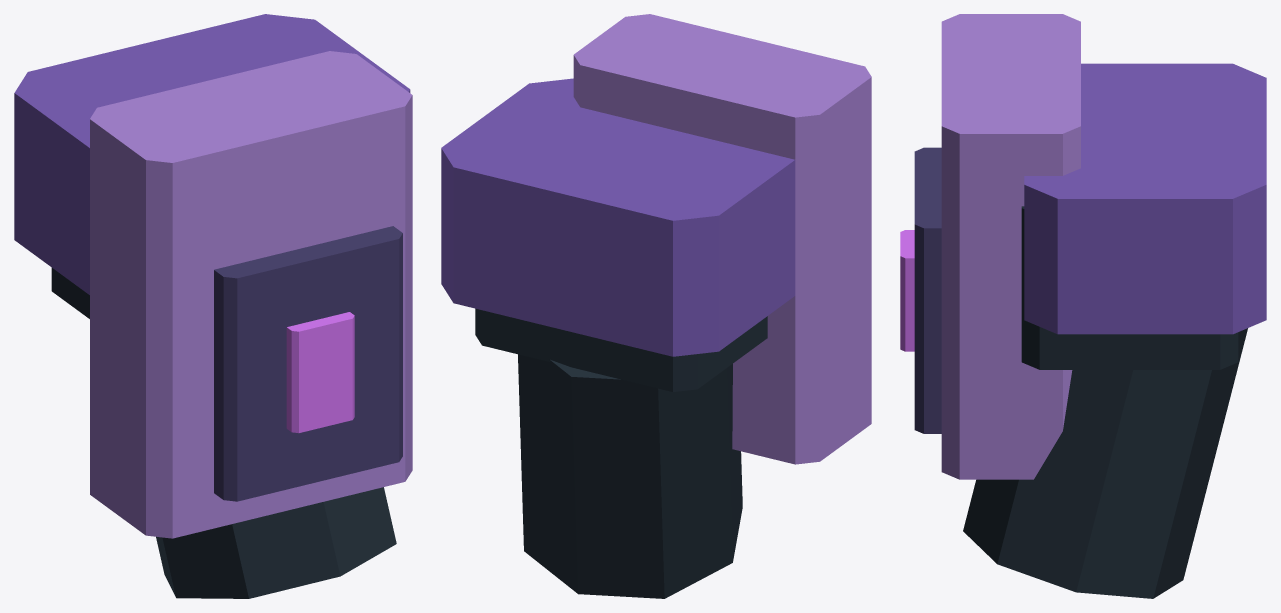
The model's file is enemy_tank_lod_upper_arm_r.obj.
3 views of the same model, side by side, from view 1: azimuth 30°, elevation 25°; view 2: azimuth 150°, elevation 25°; view 3: azimuth 270°, elevation 25° (orthographic). The views are drawn at different scales.
Size of the model in its own units: 0.655 by 1.02 by 0.71.
